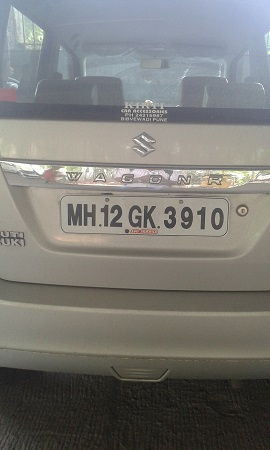licenseplate: (59, 191, 231, 240)
